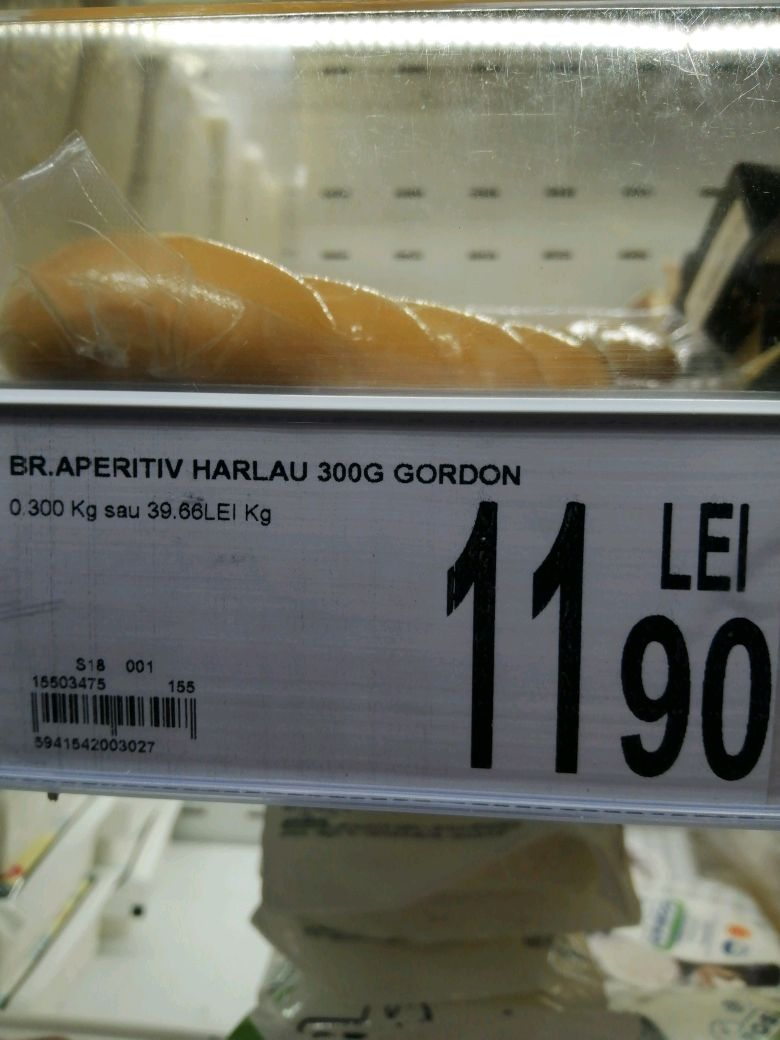price_bani: (607, 608, 780, 784)
price_lei: (428, 495, 593, 782)
price_tag: (2, 407, 780, 824)
product_id: (24, 735, 171, 756)
product_name: (4, 447, 534, 488)
